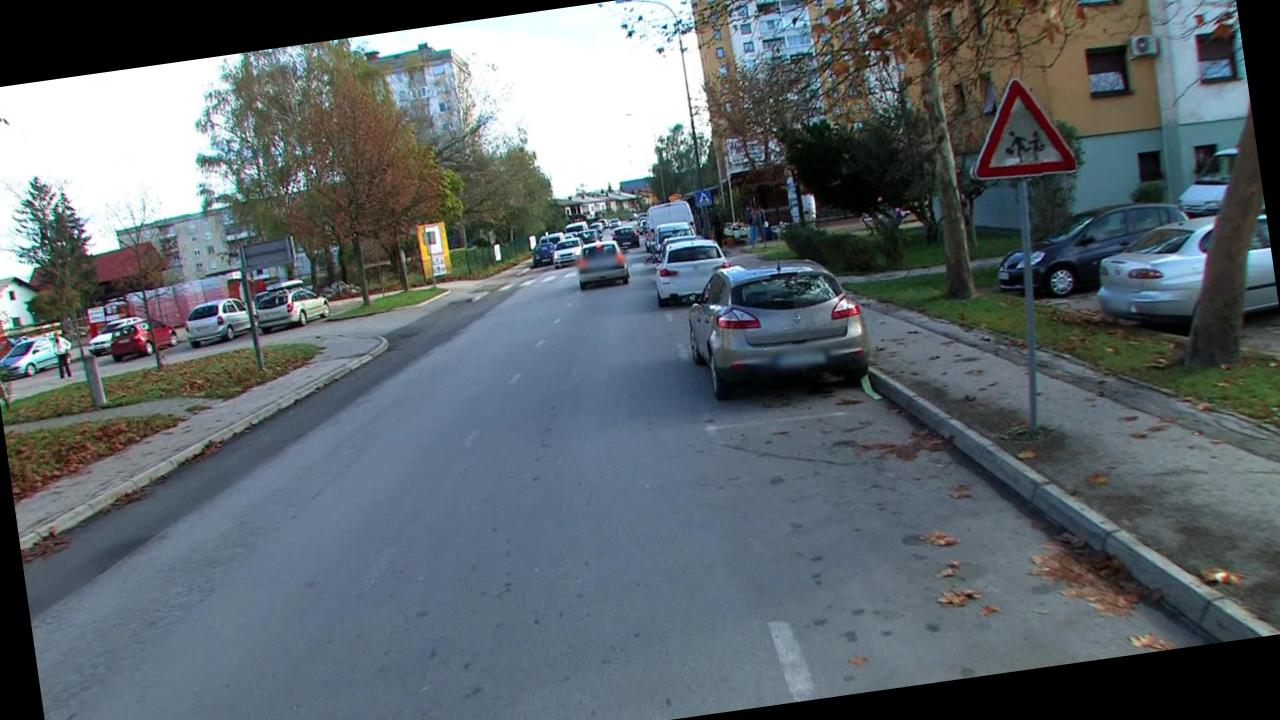Squared: (694, 185, 712, 206)
Triangle: (956, 71, 1076, 188)
